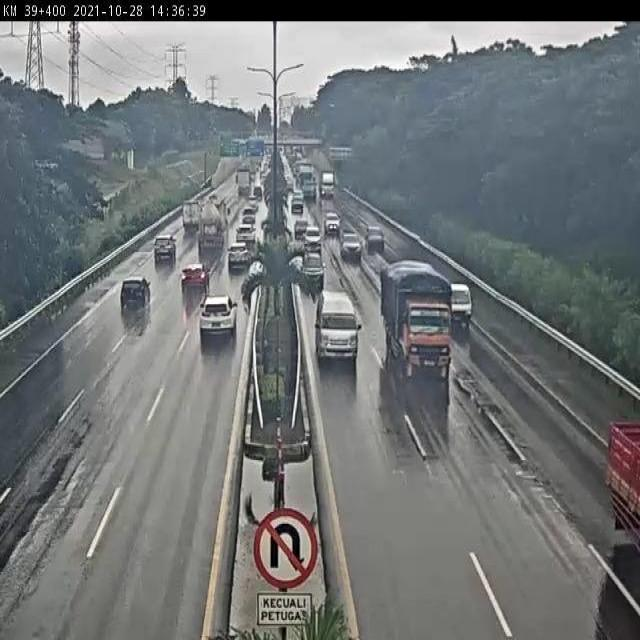bus-s-: (312, 288, 360, 360)
truck-m-: (384, 263, 455, 373)
truck-xl-: (196, 200, 230, 256)
